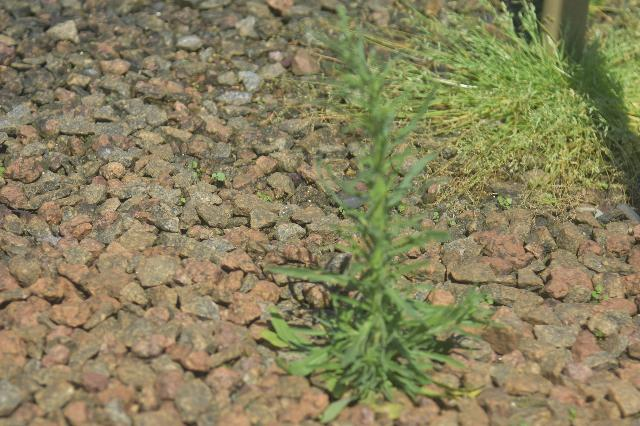MalezaMontesDelPlata: (273, 5, 502, 407), (386, 6, 636, 199)
